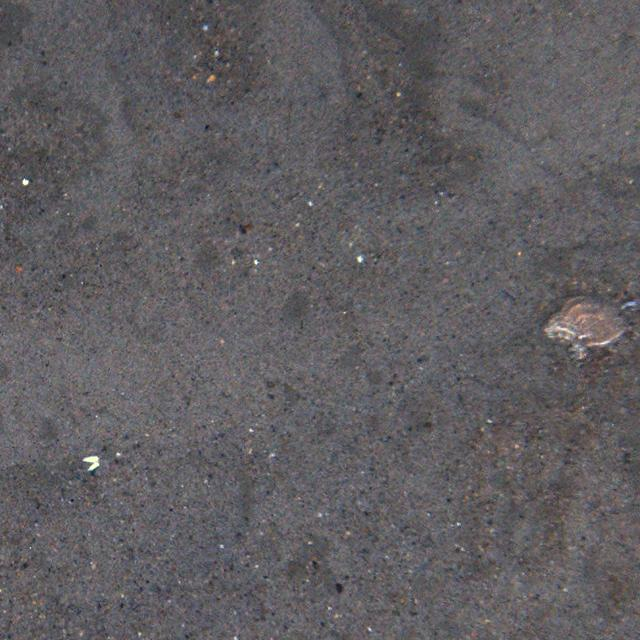whelk: (546, 296, 632, 354)
